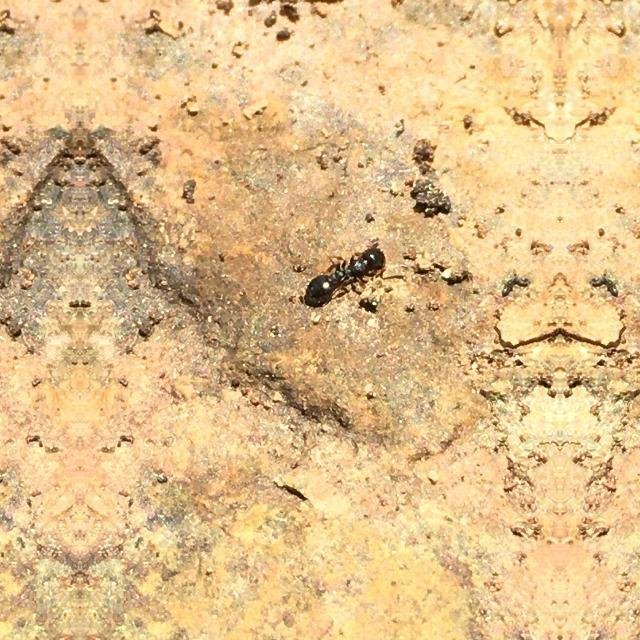Temnothorax: (305, 231, 403, 317)
